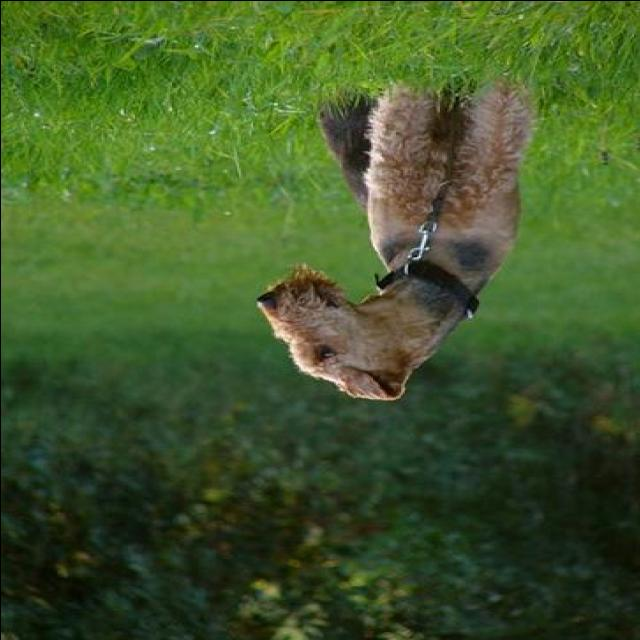airedale: (250, 76, 532, 402)
